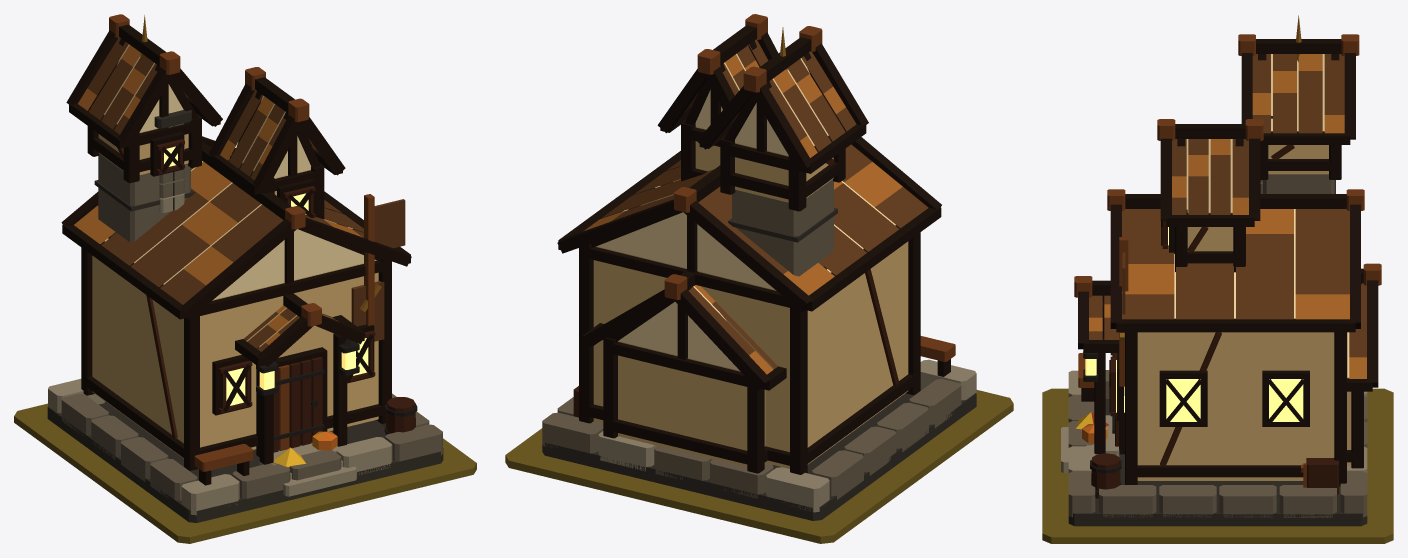
Rendered from manor_hall_t6.glb.
3 renders of one model, left to right at view 1: azimuth 30°, elevation 25°; view 2: azimuth 150°, elevation 25°; view 3: azimuth 270°, elevation 25°, orthographic. The views are drawn at different scales.
Parts seen in each view (by area): view 1: MMR | hall | T06 Architecture.001, MMR | hall | Tier 06 Ground.001, MMR | hall | T06 Banner Flag 2.001, MMR | hall | T06 Banner Flag 1.001, MMR | hall | T06 Autumn Dressing.001; view 2: MMR | hall | T06 Architecture.001, MMR | hall | Tier 06 Ground.001; view 3: MMR | hall | T06 Architecture.001, MMR | hall | Tier 06 Ground.001, MMR | hall | T06 Autumn Dressing.001.
Boxes of the visible parts, left/top/right/bottom form: MMR | hall | T06 Architecture.001: left=47, top=14, right=443, bottom=522; MMR | hall | Tier 06 Ground.001: left=14, top=403, right=476, bottom=543; MMR | hall | T06 Banner Flag 2.001: left=374, top=199, right=405, bottom=248; MMR | hall | T06 Banner Flag 1.001: left=351, top=281, right=384, bottom=341; MMR | hall | T06 Autumn Dressing.001: left=273, top=431, right=337, bottom=467; MMR | hall | T06 Architecture.001: left=542, top=14, right=976, bottom=520; MMR | hall | Tier 06 Ground.001: left=505, top=390, right=1013, bottom=543; MMR | hall | T06 Architecture.001: left=1061, top=15, right=1381, bottom=526; MMR | hall | Tier 06 Ground.001: left=1042, top=388, right=1393, bottom=543; MMR | hall | T06 Autumn Dressing.001: left=1075, top=412, right=1109, bottom=443.
Size of the model in its own units: 2.35 by 3.14 by 2.35.
Materials: 2 (1 with a texture image).
